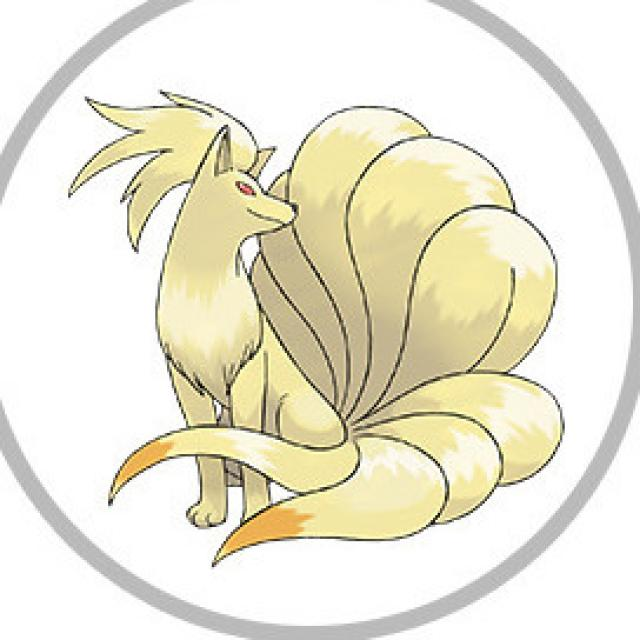Ninetales: (148, 99, 422, 539)
